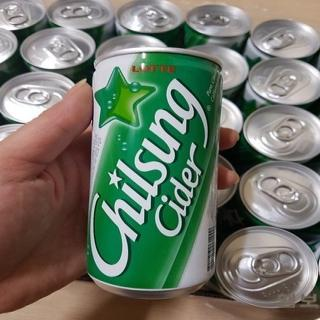cocacola: (82, 46, 225, 300)
